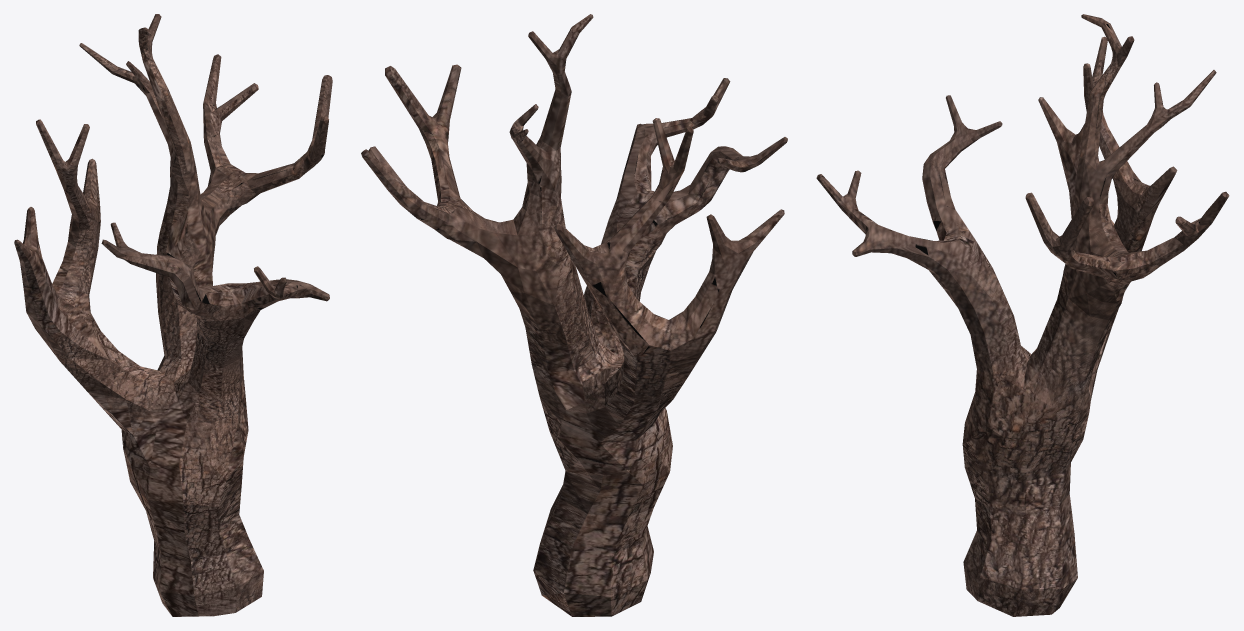
File: tree3.obj
3 renders of one model, left to right at view 1: azimuth 30°, elevation 25°; view 2: azimuth 150°, elevation 25°; view 3: azimuth 270°, elevation 25°, orthographic. The views are drawn at different scales.
Visible parts, largest first — view 1: Tree3_Cube.001; view 2: Tree3_Cube.001; view 3: Tree3_Cube.001.
Boxes of the visible parts, x1,y1,x2,y2 form: Tree3_Cube.001: (14, 14, 332, 616); Tree3_Cube.001: (361, 14, 787, 616); Tree3_Cube.001: (816, 14, 1229, 616).
Size of the model in its own units: 5.45 by 8.64 by 5.58.
